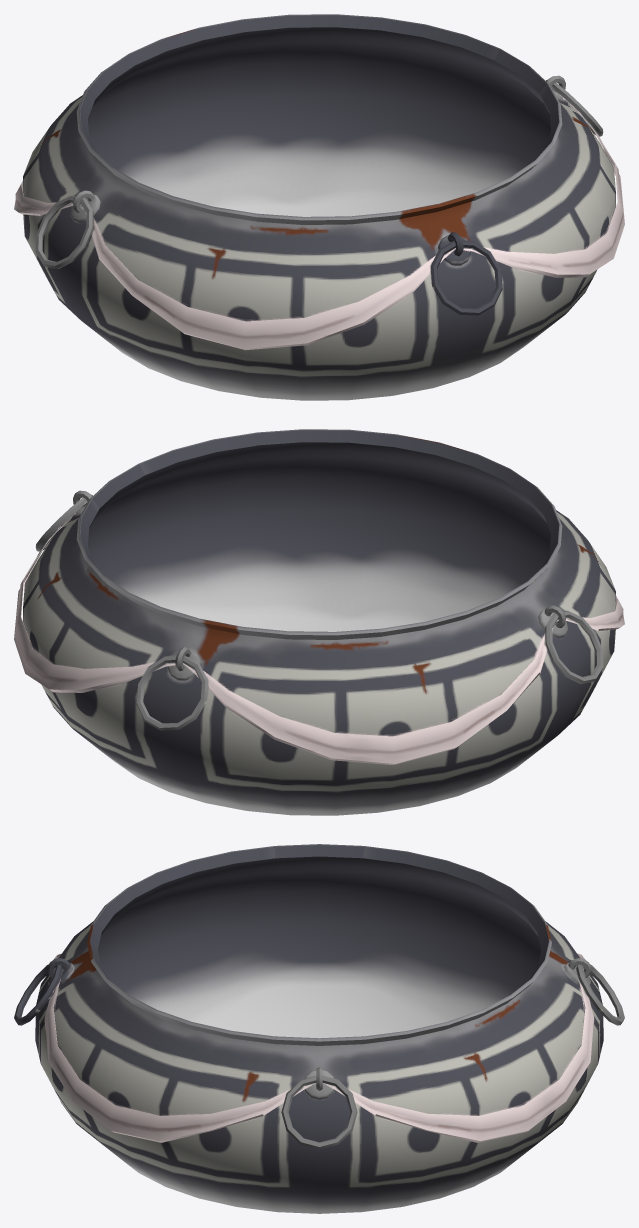
File: wok.obj
The picture shows the model from 3 angles, top to bottom: view 1: azimuth 30°, elevation 25°; view 2: azimuth 150°, elevation 25°; view 3: azimuth 270°, elevation 25°; orthographic projection. The views are drawn at different scales.
Parts seen in each view (by area): view 1: Wok.001_lp; view 2: Wok.001_lp; view 3: Wok.001_lp.
Part boxes in pixels (x1,y1,x2,y2): Wok.001_lp: [14, 14, 624, 400]; Wok.001_lp: [14, 429, 624, 815]; Wok.001_lp: [14, 844, 624, 1213].
Size of the model in its own units: 4.02 by 1.63 by 4.02.
